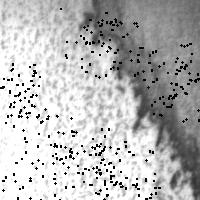pitted_surface: (1, 11, 164, 198), (92, 1, 197, 197), (13, 108, 72, 167), (95, 141, 155, 198), (80, 19, 139, 76), (52, 128, 108, 186), (60, 8, 119, 61), (142, 43, 197, 97), (151, 65, 200, 120), (0, 63, 46, 121), (0, 63, 36, 122), (2, 173, 59, 200), (103, 173, 158, 200)
